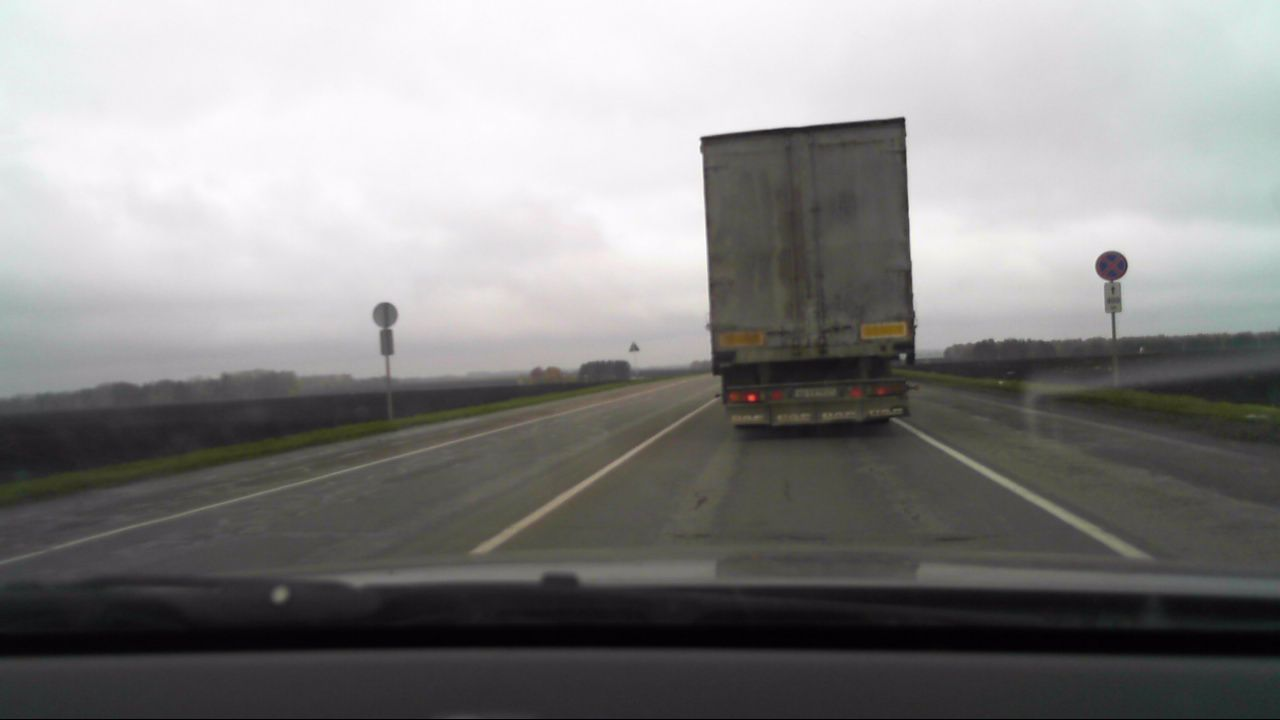No Parking: (1090, 250, 1130, 280)
